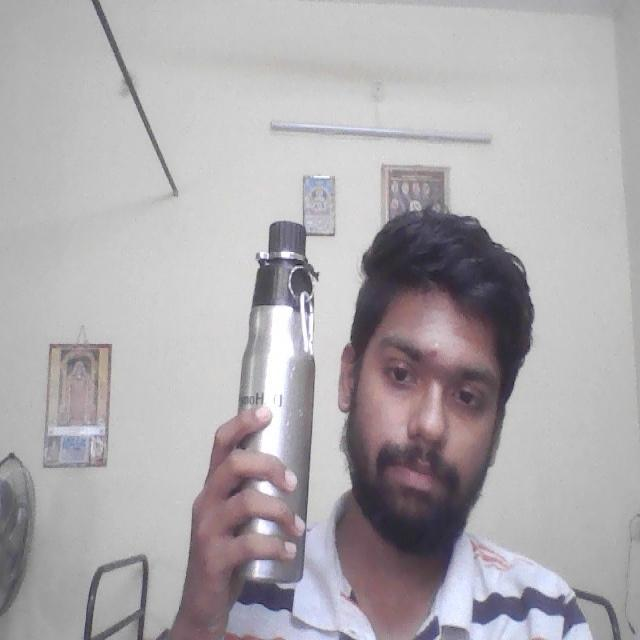Drinking: (235, 211, 324, 584)
